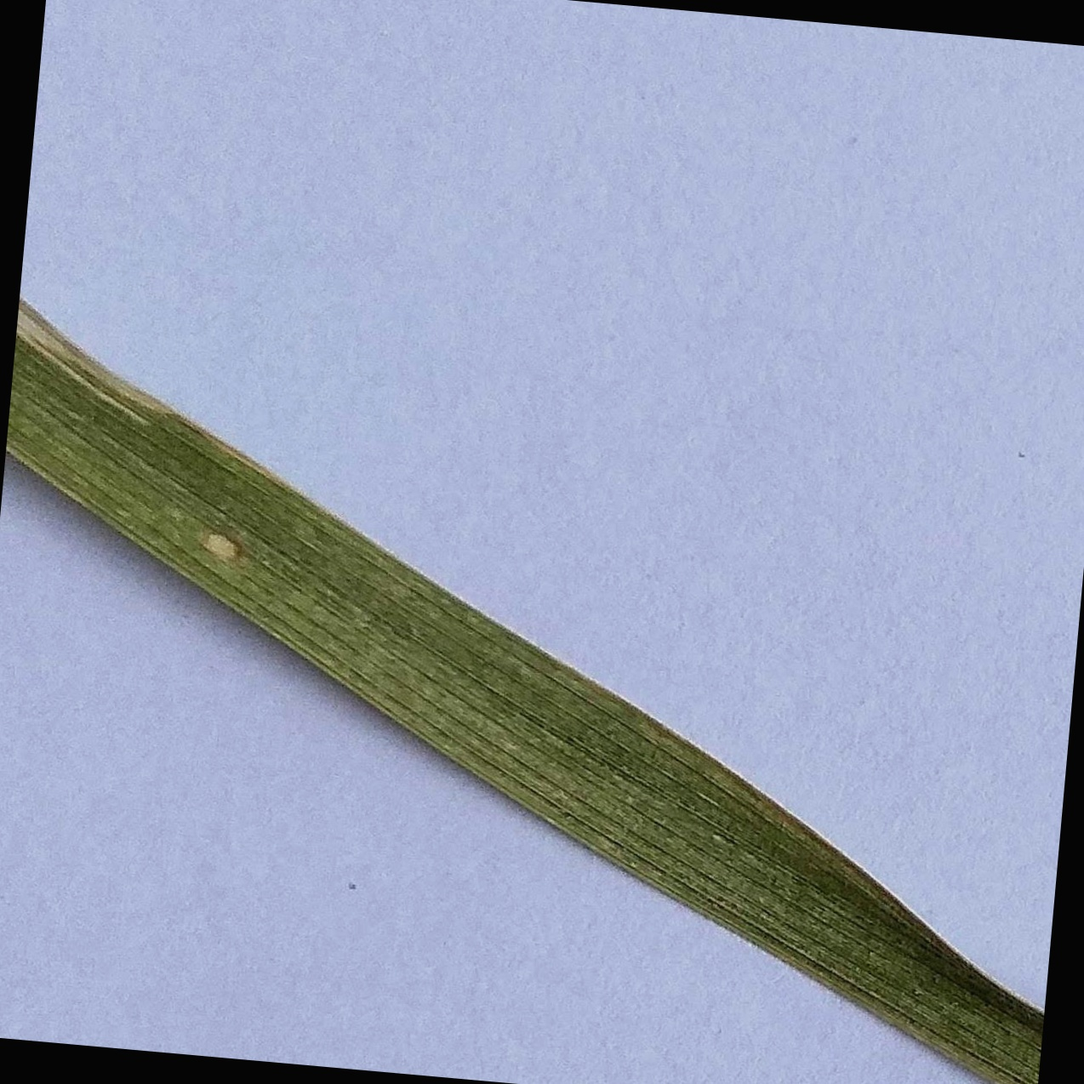Brown_Spot: (196, 501, 261, 569)
